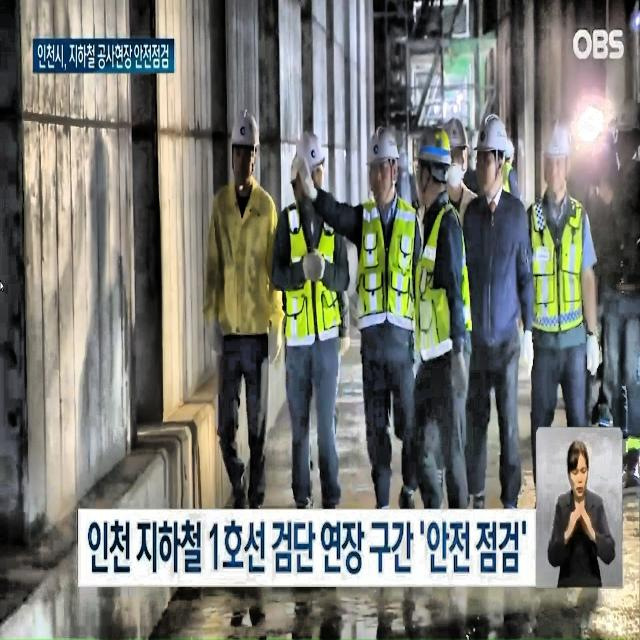safety_helmet: (476, 107, 514, 158), (415, 123, 454, 167), (292, 129, 325, 173), (366, 125, 400, 166), (536, 126, 574, 162), (230, 110, 260, 153), (440, 113, 472, 152)
safety_jacket: (414, 202, 469, 363), (282, 202, 342, 346), (358, 199, 418, 334), (531, 197, 586, 325)
